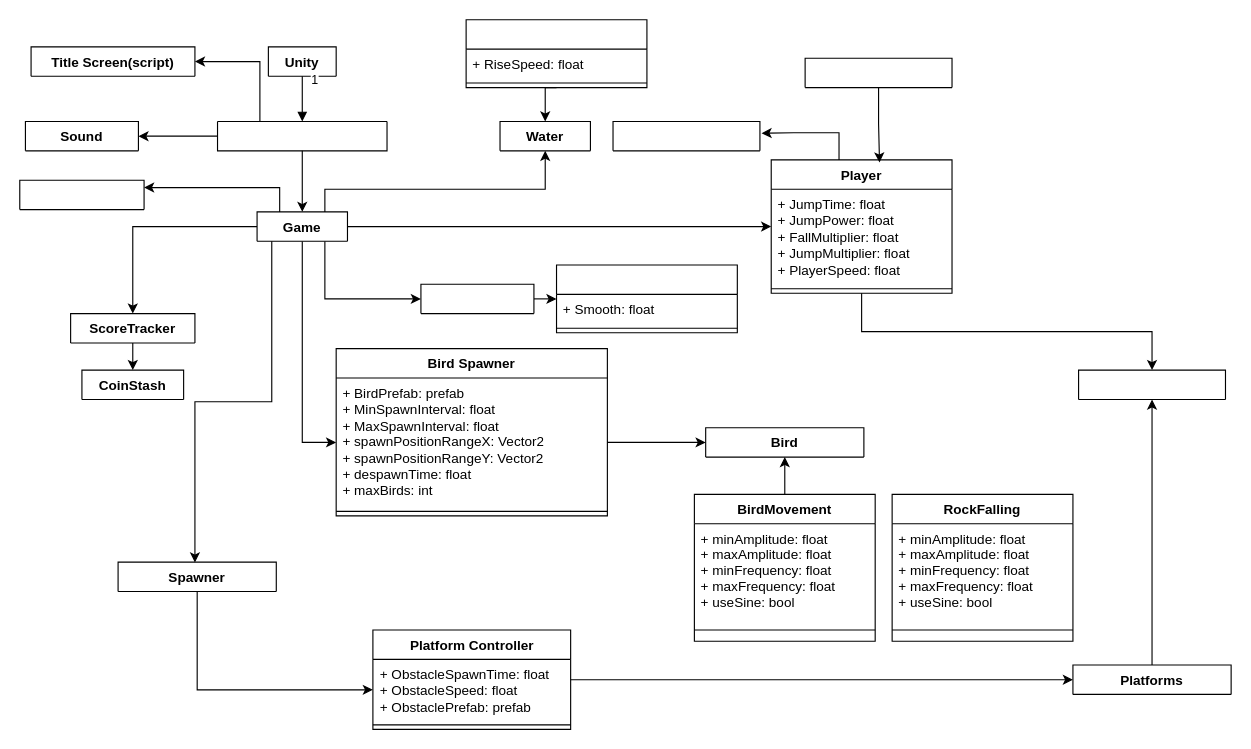
The diagram is 1251 pixels wide and 749 high, and some of its shapes have lost their labels. The box of each missing label's shape, as (x1, y1, x2, y2) in pixels:
2D box Collision: (1077, 369, 1225, 399)
CameraController: (555, 264, 737, 333)
Change Sprite: (804, 57, 952, 88)
EventSystem: (19, 179, 144, 210)
Main Camera: (420, 283, 534, 314)
PlayerMovement: (612, 120, 760, 151)
Title Screen(Scene): (216, 120, 387, 151)
Water Rise: (465, 19, 647, 88)
